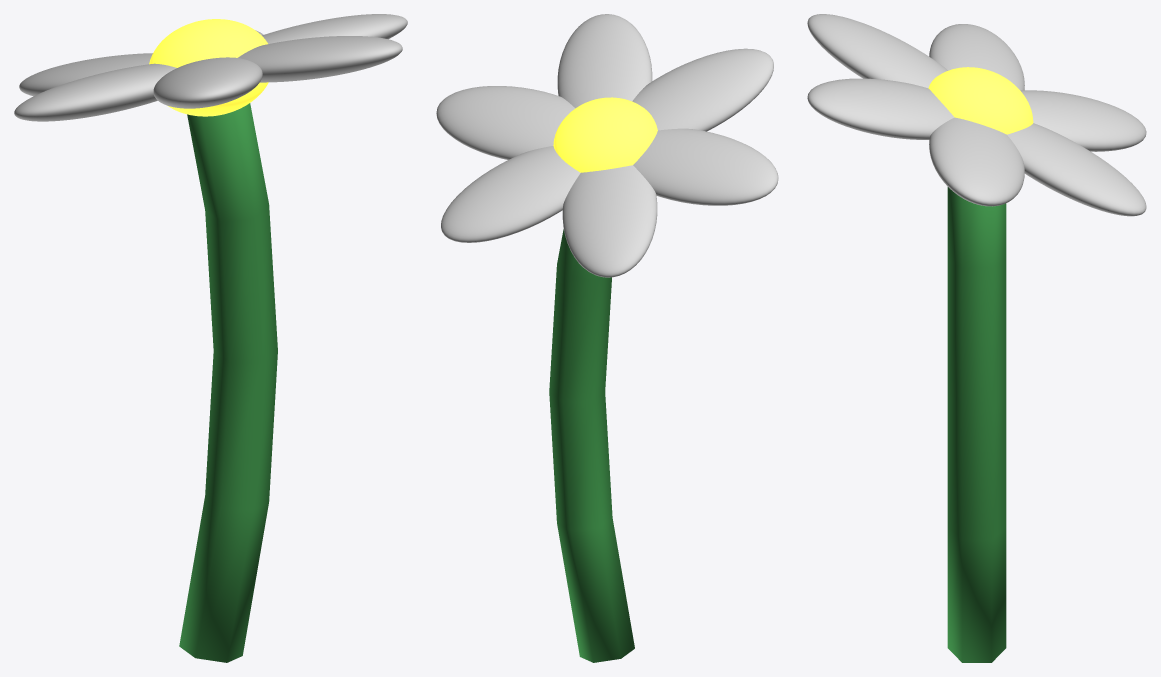
Rendered from flower.glb.
The picture shows the model from 3 angles, left to right: view 1: azimuth 30°, elevation 25°; view 2: azimuth 150°, elevation 25°; view 3: azimuth 270°, elevation 25°; orthographic projection. The views are drawn at different scales.
Parts seen in each view (by area): view 1: Stem, Petal5, Petal3, Center, Petal4, Petal0, Petal2; view 2: Stem, Petal2, Petal3, Petal1, Petal4, Petal0, Petal5, Center; view 3: Stem, Petal5, Petal1, Petal0, Petal4, Petal2, Center, Petal3.
Boxes of the visible parts, left/top/right/bottom form: Stem: left=179, top=103, right=277, bottom=662; Petal5: left=238, top=36, right=402, bottom=82; Petal3: left=14, top=63, right=176, bottom=121; Center: left=149, top=19, right=268, bottom=116; Petal4: left=153, top=57, right=262, bottom=108; Petal0: left=262, top=14, right=407, bottom=43; Petal2: left=19, top=53, right=152, bottom=96; Stem: left=549, top=229, right=634, bottom=662; Petal2: left=562, top=165, right=657, bottom=277; Petal3: left=633, top=128, right=778, bottom=205; Petal1: left=441, top=146, right=580, bottom=242; Petal4: left=632, top=48, right=773, bottom=131; Petal0: left=436, top=86, right=575, bottom=159; Petal5: left=557, top=14, right=652, bottom=108; Center: left=553, top=97, right=657, bottom=172; Stem: left=947, top=187, right=1006, bottom=662; Petal5: left=807, top=78, right=954, bottom=139; Petal1: left=1007, top=123, right=1146, bottom=216; Petal0: left=929, top=117, right=1024, bottom=206; Petal4: left=807, top=14, right=947, bottom=87; Petal2: left=1020, top=90, right=1146, bottom=151; Center: left=928, top=67, right=1033, bottom=134; Petal3: left=929, top=24, right=1024, bottom=90.
Bounding box in the file's own units: 0.2775 × 0.4479 × 0.2306.
